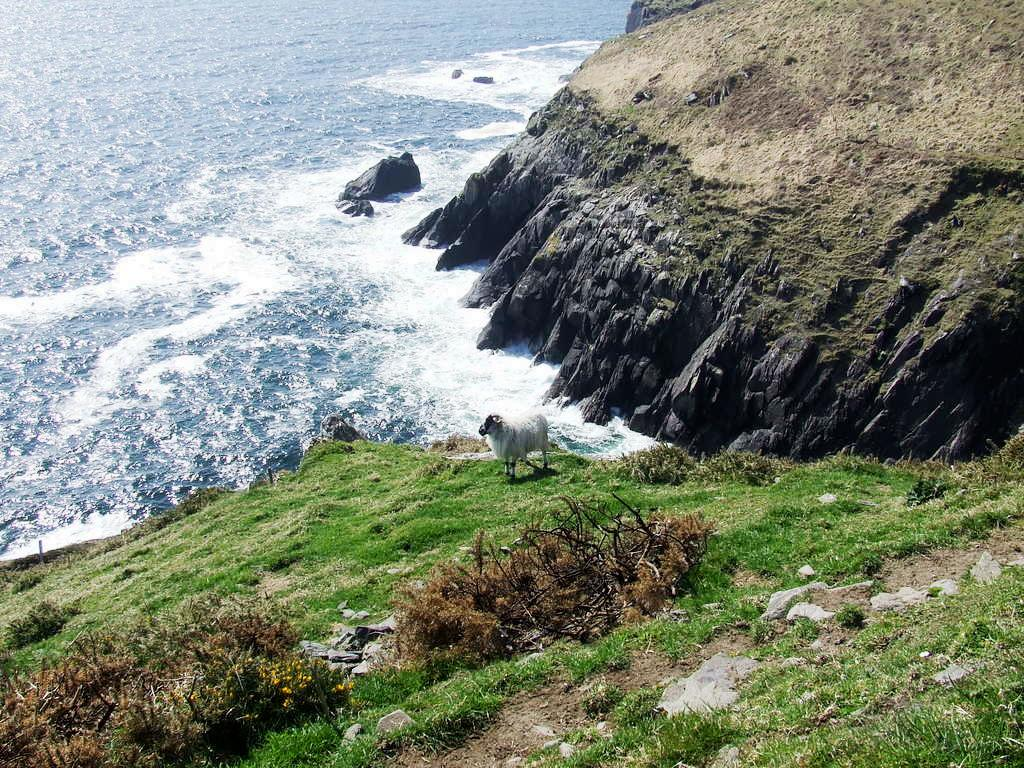Sheep: (478, 411, 552, 481)
